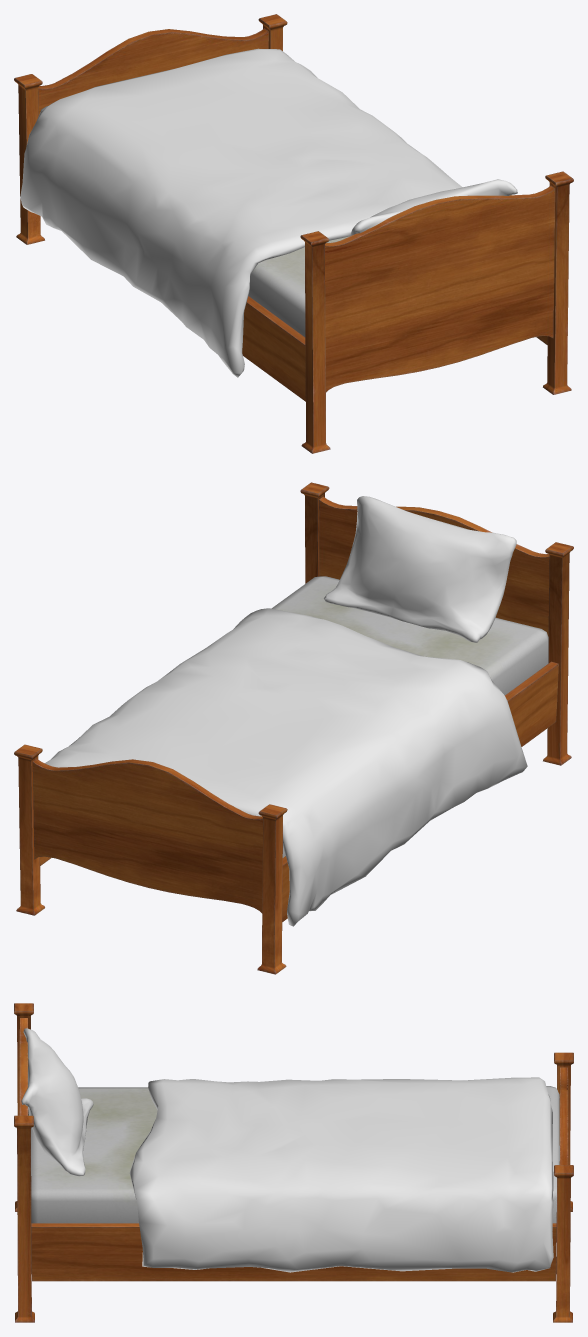
File: Bed.fbx
3 renders of one model, top to bottom at view 1: azimuth 30°, elevation 25°; view 2: azimuth 150°, elevation 25°; view 3: azimuth 270°, elevation 25°, orthographic. The views are drawn at different scales.
Parts seen in each view (by area): view 1: Cover_low, Structure3_low, Structure1_low.001, Structure2_low, Bed_low, Pillow1_low; view 2: Cover_low, Structure3_low, Pillow1_low, Structure1_low.001, Bed_low, Structure2_low; view 3: Cover_low, Structure2_low, Bed_low, Structure1_low.001, Pillow1_low, Structure3_low.
Part boxes in pixels (left/top/right/bottom): Cover_low: left=20, top=48, right=462, bottom=377; Structure3_low: left=38, top=28, right=555, bottom=392; Structure1_low.001: left=14, top=14, right=573, bottom=453; Structure2_low: left=242, top=296, right=547, bottom=401; Bed_low: left=40, top=106, right=349, bottom=336; Pillow1_low: left=350, top=179, right=517, bottom=235; Cover_low: left=45, top=608, right=527, bottom=926; Structure3_low: left=32, top=496, right=549, bottom=913; Pillow1_low: left=323, top=496, right=516, bottom=642; Structure1_low.001: left=14, top=482, right=573, bottom=974; Bed_low: left=271, top=576, right=548, bottom=857; Structure2_low: left=40, top=661, right=558, bottom=921; Cover_low: left=129, top=1077, right=553, bottom=1272; Structure2_low: left=31, top=1223, right=556, bottom=1281; Bed_low: left=28, top=1086, right=559, bottom=1223; Structure1_low.001: left=14, top=1003, right=573, bottom=1322; Pillow1_low: left=21, top=1028, right=93, bottom=1176; Structure3_low: left=19, top=1018, right=568, bottom=1164.
Size of the model in its own units: 1.15 by 0.8258 by 2.02.
